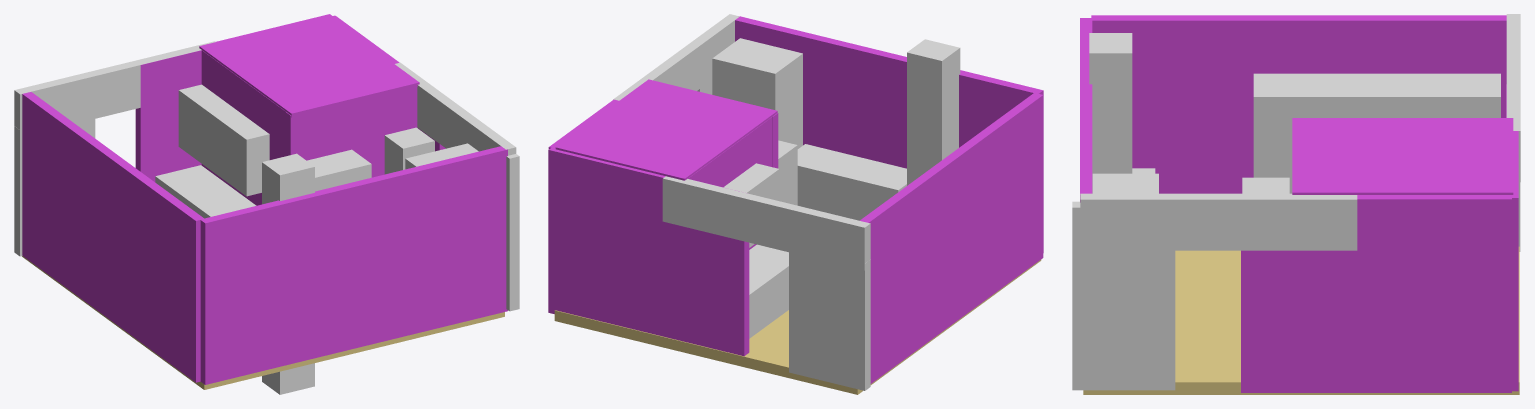
File: medical room.fbx
The picture shows the model from 3 angles, left to right: view 1: azimuth 30°, elevation 25°; view 2: azimuth 150°, elevation 25°; view 3: azimuth 270°, elevation 25°; orthographic projection. The views are drawn at different scales.
Visible parts, largest first — view 1: Cube.001, Cube.003, Cube.010, Cube.007, Cube.017, Cube.002, Cube.018, Cube.020, Cube.009, Cube.015, Cube.008, Cube.021 (+6 smaller); view 2: Cube.003, Cube.002, Cube.001, Cube.010, Cube.018, Cube.019, Cube.015, Cube.016, Cube.014, Cube, Cube.020, Cube.008 (+3 smaller); view 3: Cube.004, Cube.003, Cube.021, Cube.010, Cube.005, Cube.020, Cube, Cube.015, Cube.001, Cube.018, Cube.002, Cube.016 (+1 smaller).
Boxes of the visible parts, x1,y1,x2,y2 form: Cube.001: (200, 146, 507, 384); Cube.003: (22, 92, 204, 382); Cube.010: (199, 15, 419, 117); Cube.007: (285, 87, 417, 177); Cube.017: (178, 84, 269, 196); Cube.002: (135, 14, 334, 181); Cube.018: (14, 41, 215, 136); Cube.020: (395, 62, 516, 155); Cube.009: (201, 50, 289, 205); Cube.015: (262, 153, 314, 394); Cube.008: (155, 165, 256, 218); Cube.021: (506, 154, 519, 311); Cube.003: (860, 93, 1043, 383); Cube.002: (548, 146, 749, 356); Cube.001: (735, 16, 1043, 252); Cube.010: (555, 79, 777, 180); Cube.018: (662, 176, 870, 270); Cube.019: (789, 252, 870, 390); Cube.015: (907, 39, 960, 185); Cube.016: (712, 38, 802, 148); Cube.014: (797, 144, 906, 220); Cube: (554, 259, 1041, 394); Cube.020: (613, 14, 739, 100); Cube.008: (749, 244, 788, 338); Cube.004: (1241, 195, 1511, 392); Cube.003: (1091, 15, 1506, 193); Cube.021: (1072, 201, 1175, 390); Cube.010: (1292, 118, 1513, 194); Cube.005: (1253, 73, 1500, 193); Cube.020: (1080, 193, 1357, 250); Cube: (1083, 246, 1519, 394); Cube.015: (1089, 33, 1132, 193); Cube.001: (1080, 18, 1092, 202); Cube.018: (1506, 14, 1520, 182); Cube.002: (1506, 84, 1518, 391); Cube.016: (1092, 173, 1158, 193).
Size of the model in its own units: 637 by 420 by 649.
